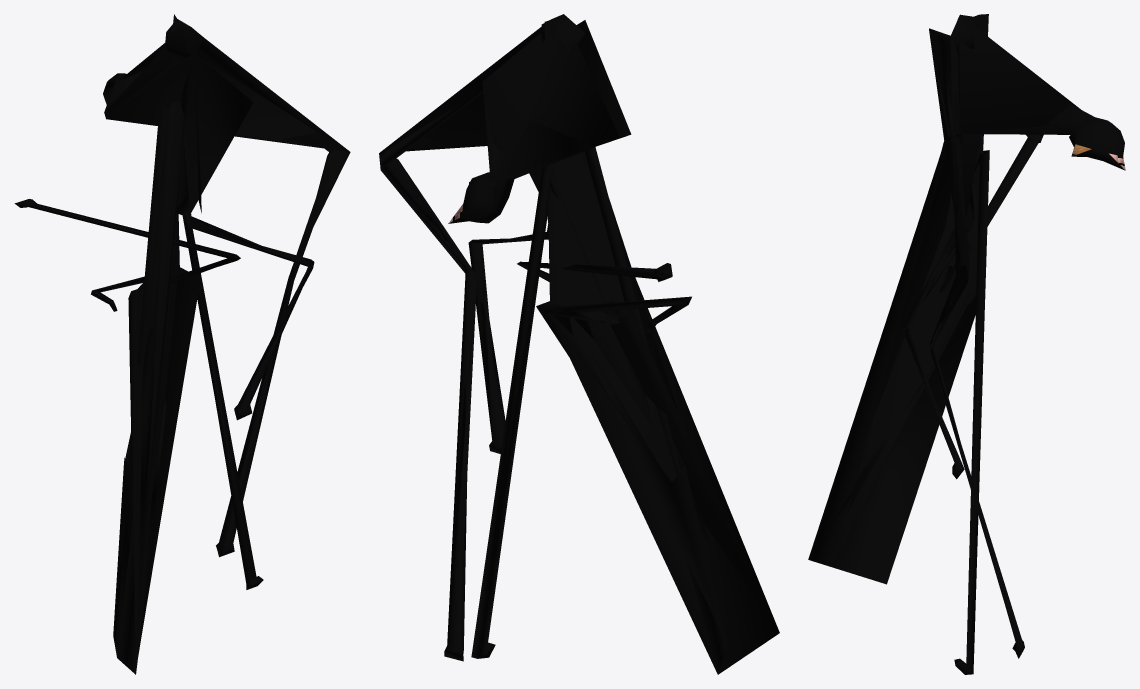
3 renders of one model, left to right at view 1: azimuth 30°, elevation 25°; view 2: azimuth 150°, elevation 25°; view 3: azimuth 270°, elevation 25°, orthographic. The views are drawn at different scales.
Parts seen in each view (by area): view 1: T1L4M007_24; view 2: T1L4M007_24; view 3: T1L4M007_24.
Part boxes in pixels (left/top/right/bottom): T1L4M007_24: left=14, top=14, right=350, bottom=674; T1L4M007_24: left=379, top=14, right=779, bottom=674; T1L4M007_24: left=808, top=14, right=1125, bottom=674.
Size of the model in its own units: 0.9851 by 1.85 by 0.8526.
